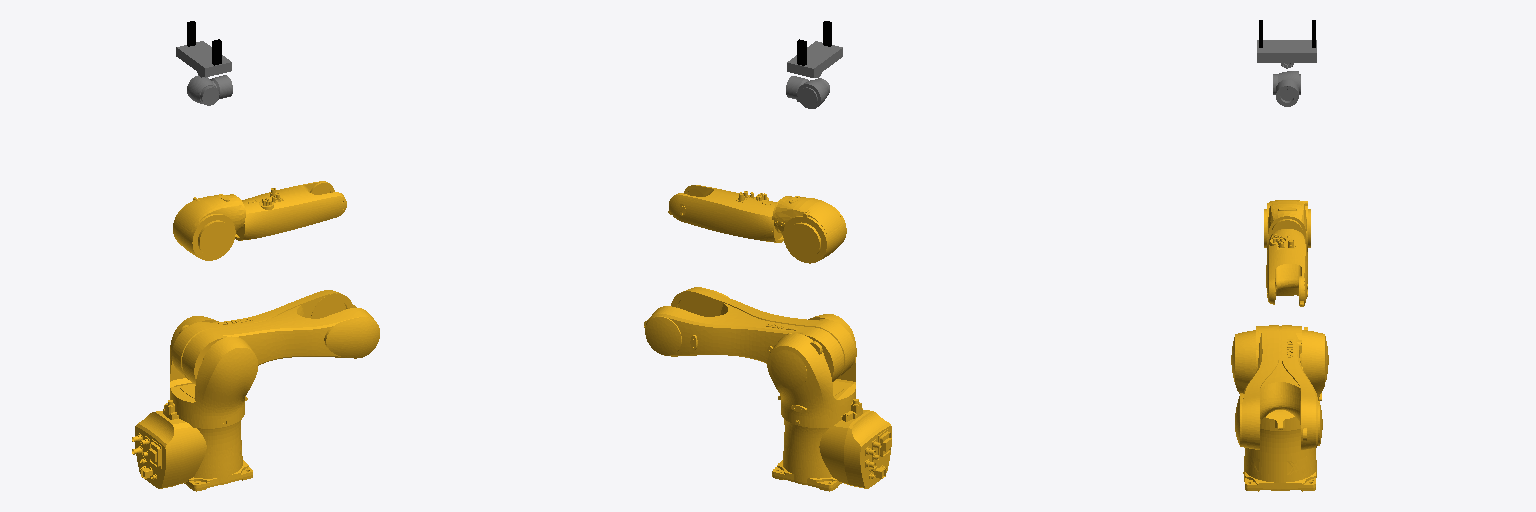
URDF robot description (staubli_tx2_60l_gripper):
<?xml version="1.0"?>
<robot name="staubli_tx2_60l_gripper">
  <material name="staubli_yellow">
    <color rgba="0.97 0.74 0.17 1.0"/>
  </material>
  <material name="staubli_grey">
    <color rgba="0.50 0.50 0.50 1.0"/>
  </material>
  <material name="gripper_dark">
    <color rgba="0.02 0.02 0.025 1.0"/>
  </material>
  <material name="gripper_pad">
    <color rgba="0.01 0.01 0.012 1.0"/>
  </material>

  <link name="base_link">
    <visual>
      <geometry>
        <mesh filename="package://mfja_3rd_floor_description/models/staubli_tx2_60l/meshes/tx2_60/visual/base_link.stl"/>
      </geometry>
      <material name="staubli_yellow"/>
    </visual>
    <collision>
      <geometry>
        <mesh filename="package://mfja_3rd_floor_description/models/staubli_tx2_60l/meshes/tx2_60/collision/base_link.stl"/>
      </geometry>
    </collision>
  </link>

  <link name="link_1">
    <visual>
      <geometry>
        <mesh filename="package://mfja_3rd_floor_description/models/staubli_tx2_60l/meshes/tx2_60/visual/link_1.stl"/>
      </geometry>
      <material name="staubli_yellow"/>
    </visual>
    <collision>
      <geometry>
        <mesh filename="package://mfja_3rd_floor_description/models/staubli_tx2_60l/meshes/tx2_60/collision/link_1.stl"/>
      </geometry>
    </collision>
  </link>

  <link name="link_2">
    <visual>
      <geometry>
        <mesh filename="package://mfja_3rd_floor_description/models/staubli_tx2_60l/meshes/tx2_60l/visual/link_2.stl"/>
      </geometry>
      <material name="staubli_yellow"/>
    </visual>
    <collision>
      <geometry>
        <mesh filename="package://mfja_3rd_floor_description/models/staubli_tx2_60l/meshes/tx2_60l/collision/link_2.stl"/>
      </geometry>
    </collision>
  </link>

  <link name="link_3">
    <visual>
      <geometry>
        <mesh filename="package://mfja_3rd_floor_description/models/staubli_tx2_60l/meshes/tx2_60/visual/link_3.stl"/>
      </geometry>
      <material name="staubli_yellow"/>
    </visual>
    <collision>
      <geometry>
        <mesh filename="package://mfja_3rd_floor_description/models/staubli_tx2_60l/meshes/tx2_60/collision/link_3.stl"/>
      </geometry>
    </collision>
  </link>

  <link name="link_4">
    <visual>
      <geometry>
        <mesh filename="package://mfja_3rd_floor_description/models/staubli_tx2_60l/meshes/tx2_60l/visual/link_4.stl"/>
      </geometry>
      <material name="staubli_yellow"/>
    </visual>
    <collision>
      <geometry>
        <mesh filename="package://mfja_3rd_floor_description/models/staubli_tx2_60l/meshes/tx2_60l/collision/link_4.stl"/>
      </geometry>
    </collision>
  </link>

  <link name="link_5">
    <visual>
      <geometry>
        <mesh filename="package://mfja_3rd_floor_description/models/staubli_tx2_60l/meshes/tx60/visual/link_5.stl"/>
      </geometry>
      <material name="staubli_grey"/>
    </visual>
    <collision>
      <geometry>
        <mesh filename="package://mfja_3rd_floor_description/models/staubli_tx2_60l/meshes/tx60/collision/link_5.stl"/>
      </geometry>
    </collision>
  </link>

  <link name="link_6">
    <visual>
      <geometry>
        <mesh filename="package://mfja_3rd_floor_description/models/staubli_tx2_60l/meshes/tx60/visual/link_6.stl"/>
      </geometry>
      <material name="staubli_grey"/>
    </visual>
    <collision>
      <geometry>
        <mesh filename="package://mfja_3rd_floor_description/models/staubli_tx2_60l/meshes/tx60/collision/link_6.stl"/>
      </geometry>
    </collision>
  </link>

  <link name="flange"/>
  <link name="base"/>
  <link name="tool0"/>
  <link name="gripper_base">
    <visual>
      <origin xyz="0 0 0" rpy="0 0 0"/>
      <geometry>
        <box size="0.09 0.17 0.03"/>
      </geometry>
      <material name="staubli_grey"/>
    </visual>
    <collision>
      <origin xyz="0 0 0" rpy="0 0 0"/>
      <geometry>
        <box size="0.09 0.17 0.03"/>
      </geometry>
    </collision>
  </link>
  <link name="gripper_left_finger">
    <visual>
      <origin xyz="0 0 0" rpy="0 0 0"/>
      <geometry>
        <box size="0.024 0.012 0.09"/>
      </geometry>
      <material name="gripper_pad"/>
    </visual>
    <collision>
      <origin xyz="0 0 0" rpy="0 0 0"/>
      <geometry>
        <box size="0.024 0.012 0.09"/>
      </geometry>
    </collision>
  </link>
  <link name="gripper_right_finger">
    <visual>
      <origin xyz="0 0 0" rpy="0 0 0"/>
      <geometry>
        <box size="0.024 0.012 0.09"/>
      </geometry>
      <material name="gripper_pad"/>
    </visual>
    <collision>
      <origin xyz="0 0 0" rpy="0 0 0"/>
      <geometry>
        <box size="0.024 0.012 0.09"/>
      </geometry>
    </collision>
  </link>
  <link name="gripper_tcp"/>

  <joint name="joint_1" type="revolute">
    <origin xyz="0 0 0.375" rpy="0 0 0"/>
    <parent link="base_link"/>
    <child link="link_1"/>
    <axis xyz="0 0 1"/>
    <limit lower="-3.14159265359" upper="3.14159265359" effort="126.0" velocity="7.59218224618"/>
  </joint>

  <joint name="joint_2" type="revolute">
    <origin xyz="0 0 0" rpy="0 0 0"/>
    <parent link="link_1"/>
    <child link="link_2"/>
    <axis xyz="0 1 0"/>
    <limit lower="-2.22529479629" upper="2.22529479629" effort="47.0" velocity="6.71951762018"/>
  </joint>

  <joint name="joint_3" type="revolute">
    <origin xyz="0 0.02 0.40" rpy="0 0 0"/>
    <parent link="link_2"/>
    <child link="link_3"/>
    <axis xyz="0 1 0"/>
    <limit lower="-2.66162710929" upper="2.66162710929" effort="32.0" velocity="8.72664625997"/>
  </joint>

  <joint name="joint_4" type="revolute">
    <origin xyz="0 0 0" rpy="0 0 0"/>
    <parent link="link_3"/>
    <child link="link_4"/>
    <axis xyz="0 0 1"/>
    <limit lower="-4.71238898038" upper="4.71238898038" effort="7.0" velocity="17.3664683405"/>
  </joint>

  <joint name="joint_5" type="revolute">
    <origin xyz="0 0 0.45" rpy="0 0 0"/>
    <parent link="link_4"/>
    <child link="link_5"/>
    <axis xyz="0 1 0"/>
    <limit lower="-2.11184839491" upper="2.31256125889" effort="8.0" velocity="18.5875365032"/>
  </joint>

  <joint name="joint_6" type="revolute">
    <origin xyz="0 0 0.07" rpy="0 0 0"/>
    <parent link="link_5"/>
    <child link="link_6"/>
    <axis xyz="0 0 1"/>
    <limit lower="-4.71238898038" upper="4.71238898038" effort="2.0" velocity="25.2201963626"/>
  </joint>

  <joint name="joint_6_flange" type="fixed">
    <origin xyz="0 0 0" rpy="0 -1.57079632679 0"/>
    <parent link="link_6"/>
    <child link="flange"/>
  </joint>

  <joint name="base_link_base" type="fixed">
    <origin xyz="0 0 0.375" rpy="0 0 0"/>
    <parent link="base_link"/>
    <child link="base"/>
  </joint>

  <joint name="flange_tool0" type="fixed">
    <origin xyz="0 0 0" rpy="0 1.57079632679 0"/>
    <parent link="flange"/>
    <child link="tool0"/>
  </joint>

  <joint name="tool0_gripper_base" type="fixed">
    <origin xyz="0 0 0.035" rpy="0 0 0"/>
    <parent link="tool0"/>
    <child link="gripper_base"/>
  </joint>

  <joint name="gripper_base_left_finger" type="fixed">
    <origin xyz="0 0.075 0.045" rpy="0 0 0"/>
    <parent link="gripper_base"/>
    <child link="gripper_left_finger"/>
  </joint>

  <joint name="gripper_base_right_finger" type="fixed">
    <origin xyz="0 -0.075 0.045" rpy="0 0 0"/>
    <parent link="gripper_base"/>
    <child link="gripper_right_finger"/>
  </joint>

  <joint name="gripper_base_tcp" type="fixed">
    <origin xyz="0 0 0.060" rpy="0 0 0"/>
    <parent link="gripper_base"/>
    <child link="gripper_tcp"/>
  </joint>
</robot>

--- What the picture shows (computed from the rendered views, not written in the file) ---
3 views of the same robot in one strip: view 1: azimuth 30°, elevation 25°; view 2: azimuth 150°, elevation 25°; view 3: azimuth 270°, elevation 25° (orthographic).
Robot: staubli_tx2_60l_gripper — 14 links, 13 joints (6 revolute, 7 fixed); root link base_link; default pose: all joints at 0.
Visible links, largest first — view 1: link_2, base_link, link_1, link_4, link_3, gripper_base, link_5; view 2: link_2, base_link, link_1, link_4, link_3, gripper_base, link_5; view 3: link_2, base_link, link_1, link_4, link_3, gripper_base, link_5.
Link boxes in pixels (<box>): link_2: <box>172,290,379,384</box>; base_link: <box>132,400,252,491</box>; link_1: <box>170,316,257,428</box>; link_4: <box>235,181,346,240</box>; link_3: <box>173,194,245,260</box>; gripper_base: <box>176,41,231,77</box>; link_5: <box>187,75,232,105</box>; link_2: <box>644,287,855,381</box>; base_link: <box>772,399,891,491</box>; link_1: <box>767,314,856,427</box>; link_4: <box>668,185,783,242</box>; link_3: <box>772,196,846,263</box>; gripper_base: <box>787,41,842,77</box>; link_5: <box>786,76,829,108</box>; link_2: <box>1235,325,1322,449</box>; base_link: <box>1243,429,1316,491</box>; link_1: <box>1231,327,1328,430</box>; link_4: <box>1266,229,1307,306</box>; link_3: <box>1264,200,1310,251</box>; gripper_base: <box>1257,40,1316,62</box>; link_5: <box>1273,71,1300,106</box>.
Size in the robot's own frame: 0.7635 by 0.276 by 1.42 metres.
7 mesh visuals loaded from 7 distinct referenced files (7 ASCII STL).
